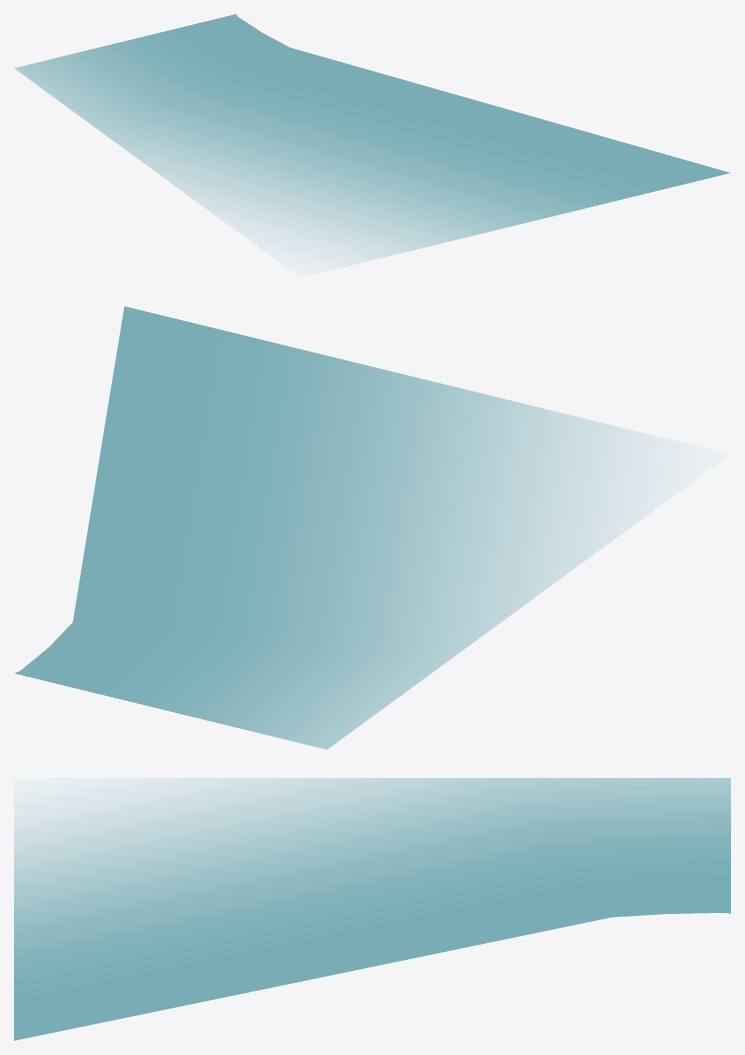
3 views of the same model, one above another, from view 1: azimuth 30°, elevation 25°; view 2: azimuth 150°, elevation 25°; view 3: azimuth 270°, elevation 25° (orthographic). The views are drawn at different scales.
Visible parts, largest first — view 1: city; view 2: city; view 3: city.
Boxes of the visible parts, bbox=[...] form: city: bbox=[14, 14, 730, 266]; city: bbox=[14, 306, 669, 749]; city: bbox=[14, 778, 730, 1040].
Size of the model in its own units: 434 by 0 by 500.
